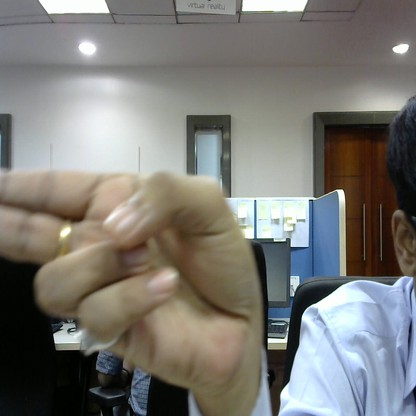h: (1, 126, 282, 404)
